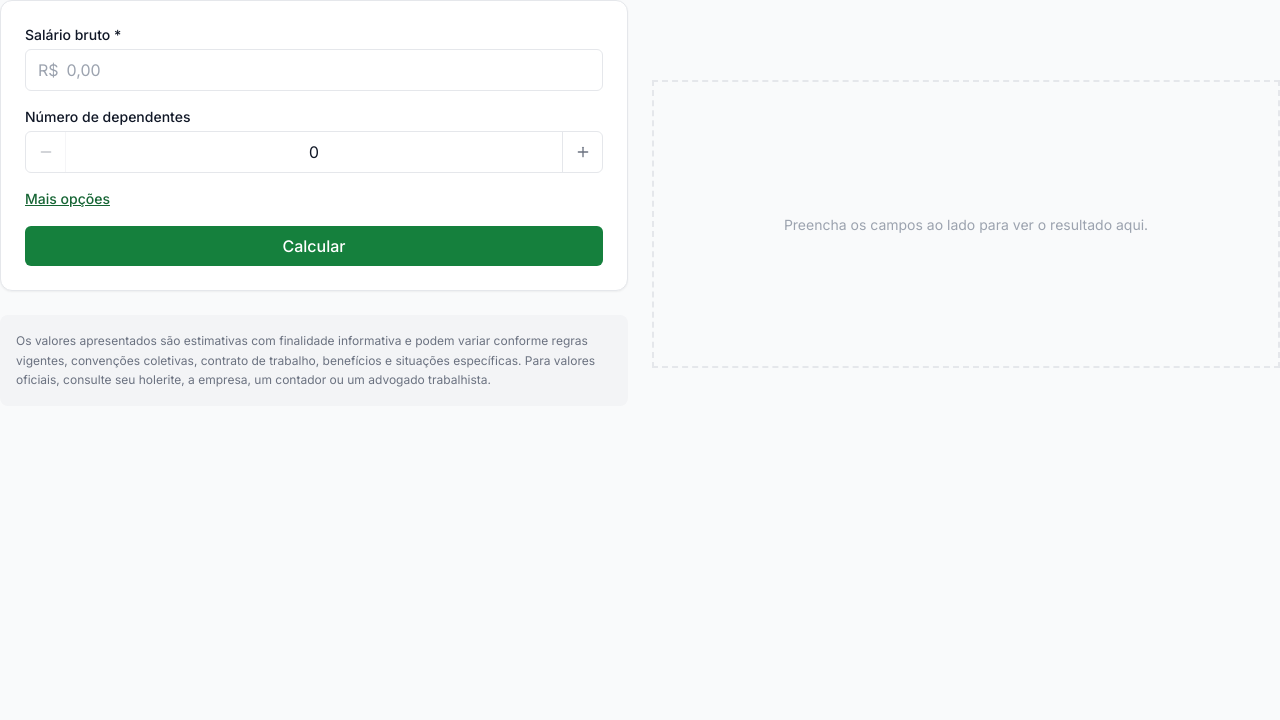
Test: SalaryCalculator › mostra o salário líquido ao vivo, sem clicar em Calcular
In the field labelled "Salário bruto *": (324,70) [59,50,590,90], type "600000"
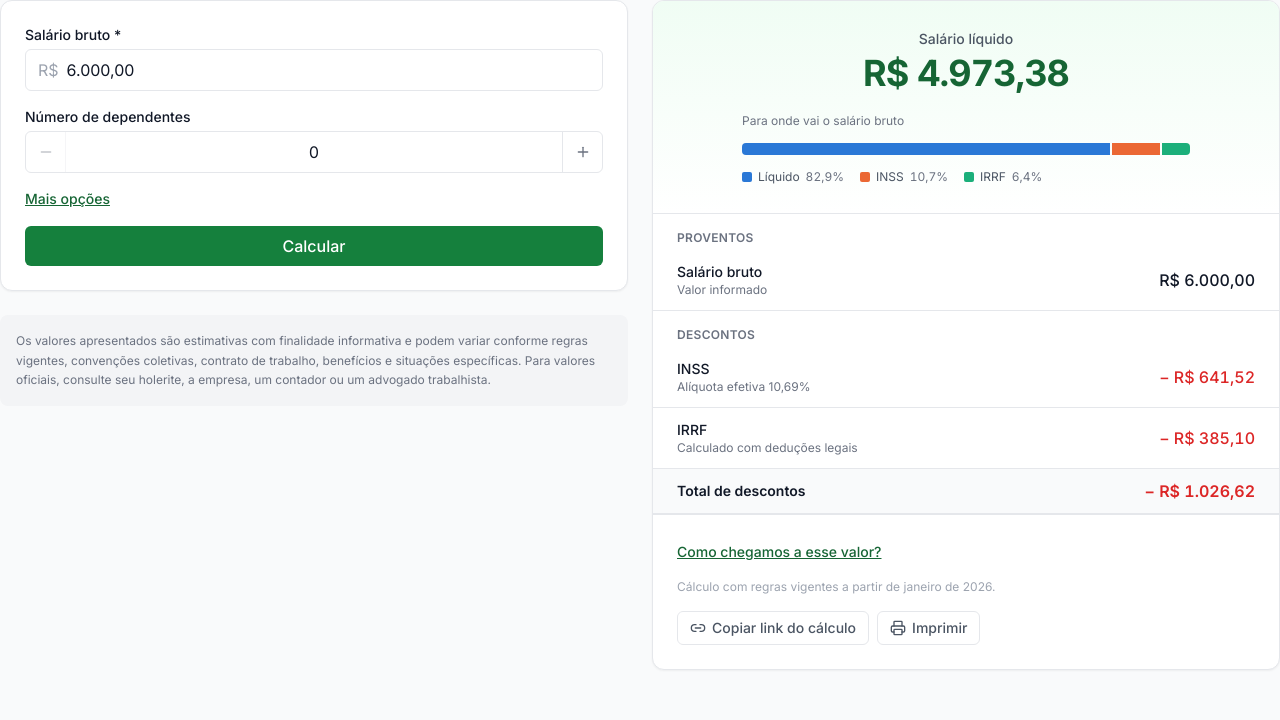
Expected: the text "Salário líquido" is shown, [919,30,1013,47]
